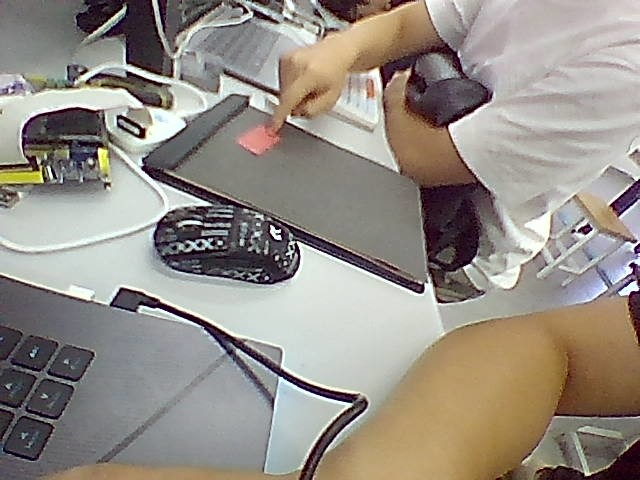card: (237, 125, 279, 155)
